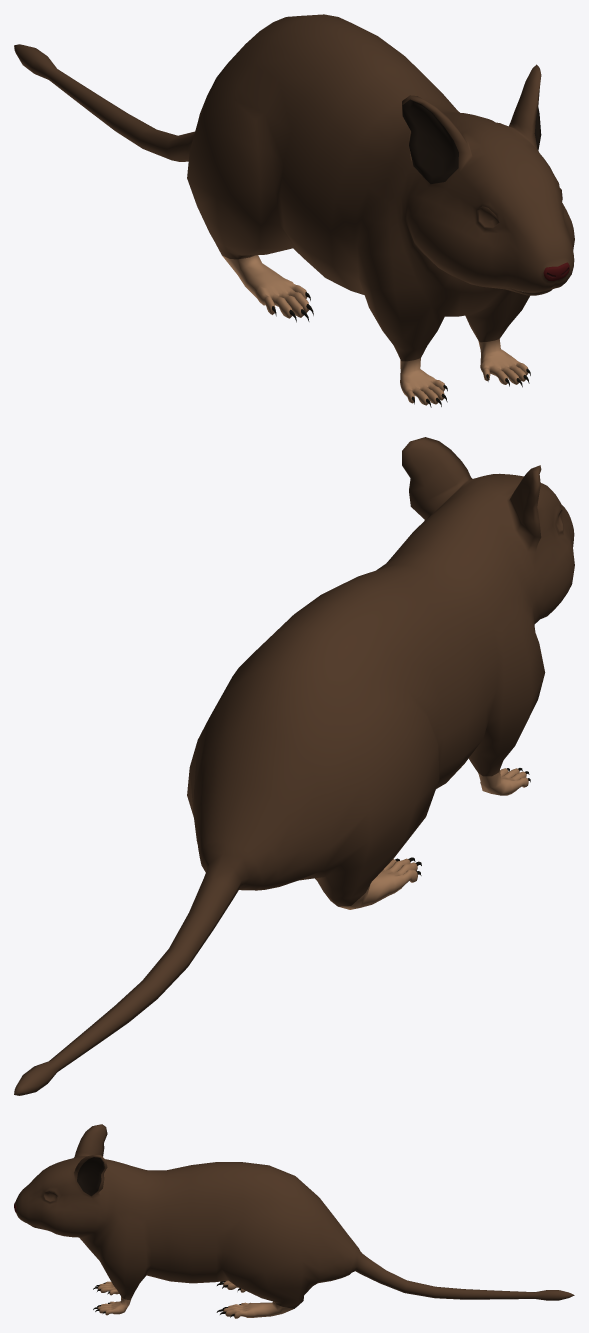
The model's file is degu_degu.obj.
3 renders of one model, top to bottom at view 1: azimuth 30°, elevation 25°; view 2: azimuth 150°, elevation 25°; view 3: azimuth 270°, elevation 25°, orthographic. The views are drawn at different scales.
Visible parts, largest first — view 1: degu; view 2: degu; view 3: degu.
Part boxes in pixels (x1,y1,x2,y2): degu: [14, 14, 574, 407]; degu: [14, 437, 574, 1095]; degu: [14, 1124, 574, 1318].
Bounding box in the file's own units: 0.07 × 0.1056 × 0.3332.
